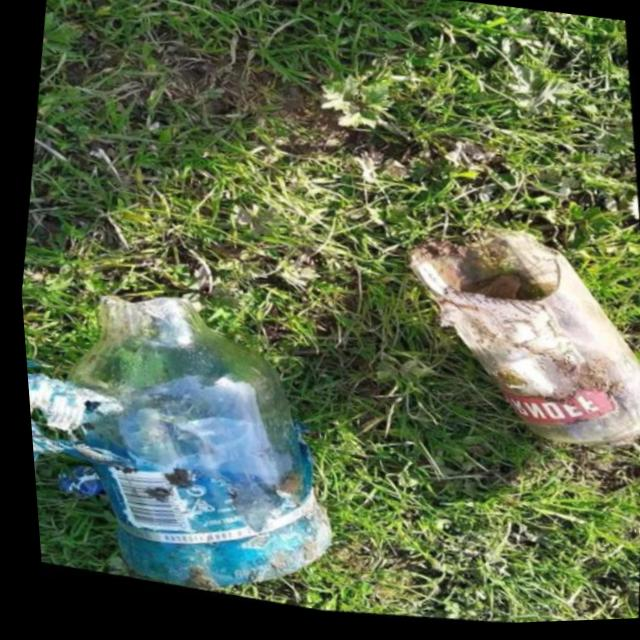foam box: (14, 227, 426, 636), (347, 171, 640, 498)
